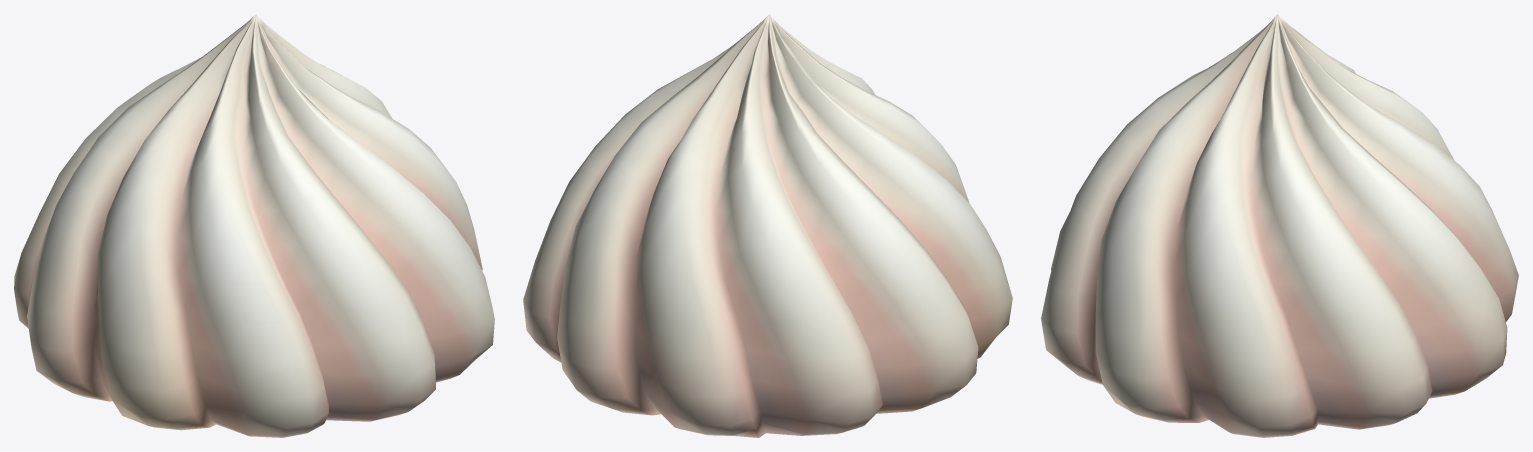
Rendered from Whippedcream_Houseunit.fbx.
The picture shows the model from 3 angles, left to right: view 1: azimuth 30°, elevation 25°; view 2: azimuth 150°, elevation 25°; view 3: azimuth 270°, elevation 25°; orthographic projection.
Visible parts, largest first — view 1: cream1; view 2: cream1; view 3: cream1.
Boxes of the visible parts, bbox=[...] form: cream1: bbox=[14, 14, 494, 437]; cream1: bbox=[523, 14, 1012, 437]; cream1: bbox=[1041, 14, 1518, 437].
Bounding box in the file's own units: 133 × 106 × 131.
1 material, 1 textured.
